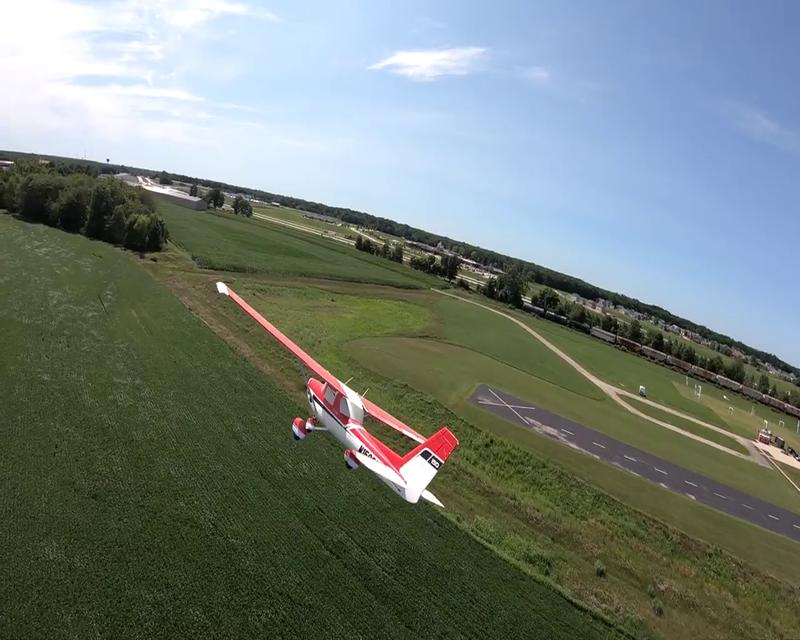UAV: (215, 281, 459, 504)
